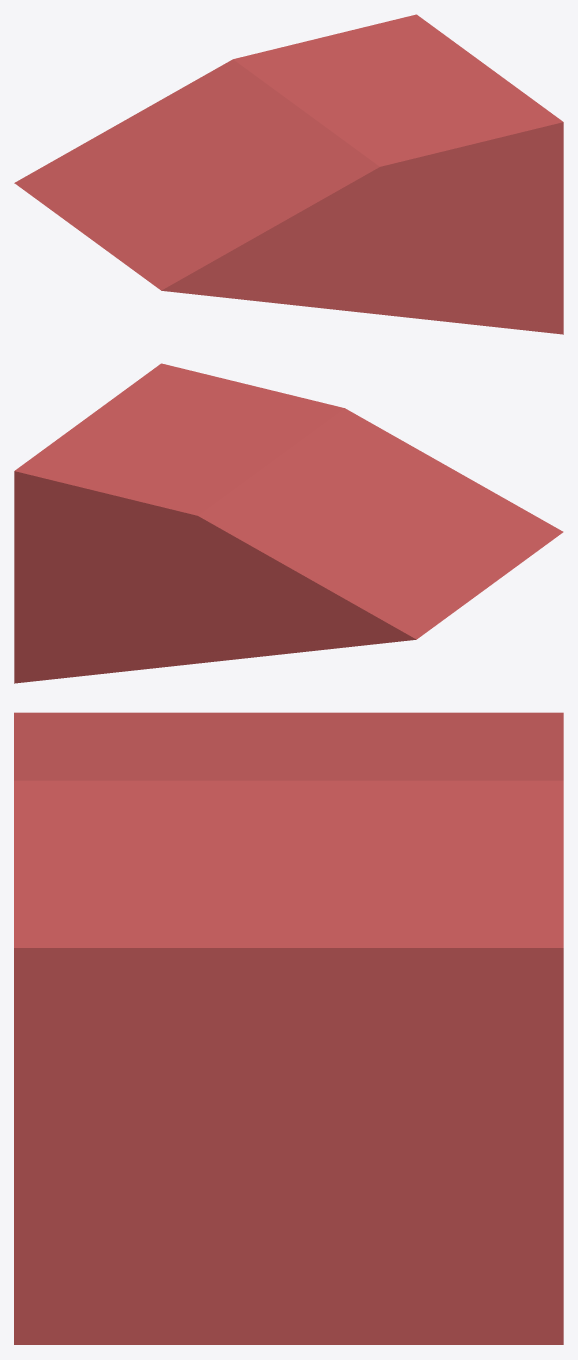
The model's file is mc_dodai.glb.
3 views of the same model, one above another, from view 1: azimuth 30°, elevation 25°; view 2: azimuth 150°, elevation 25°; view 3: azimuth 270°, elevation 25° (orthographic). The views are drawn at different scales.
Visible parts, largest first — view 1: mc_dodai_col; view 2: mc_dodai_col; view 3: mc_dodai_col.
Boxes of the visible parts, x1=… form: mc_dodai_col: x1=14, y1=14, x2=563, y2=334; mc_dodai_col: x1=14, y1=363, x2=563, y2=683; mc_dodai_col: x1=14, y1=712, x2=563, y2=1344.
Bounding box in the file's own units: 7.91 × 3.99 × 5.
